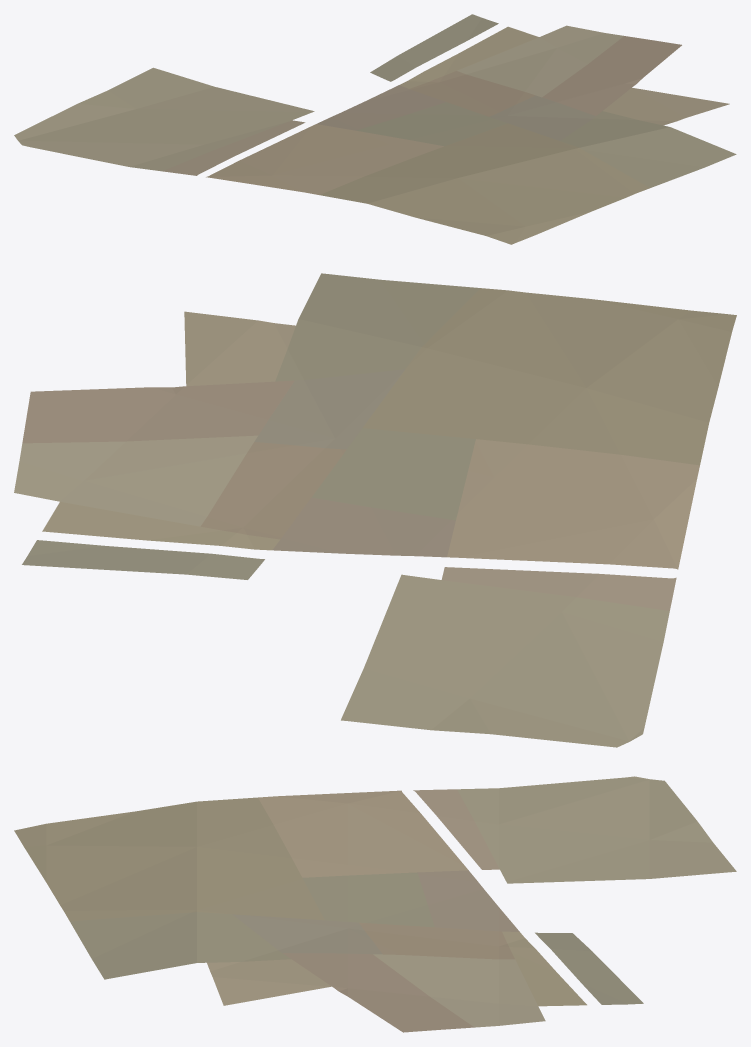
File: farm_29_18_soil.glb
3 renders of one model, top to bottom at view 1: azimuth 30°, elevation 25°; view 2: azimuth 150°, elevation 25°; view 3: azimuth 270°, elevation 25°, orthographic. The views are drawn at different scales.
Parts seen in each view (by area): view 1: geometry_0; view 2: geometry_0; view 3: geometry_0.
Part boxes in pixels (x1=…): geometry_0: x1=14, y1=14, x2=736, y2=244; geometry_0: x1=14, y1=273, x2=736, y2=747; geometry_0: x1=14, y1=776, x2=736, y2=1032.
Size of the model in its own units: 378 by 36.27 by 383.
